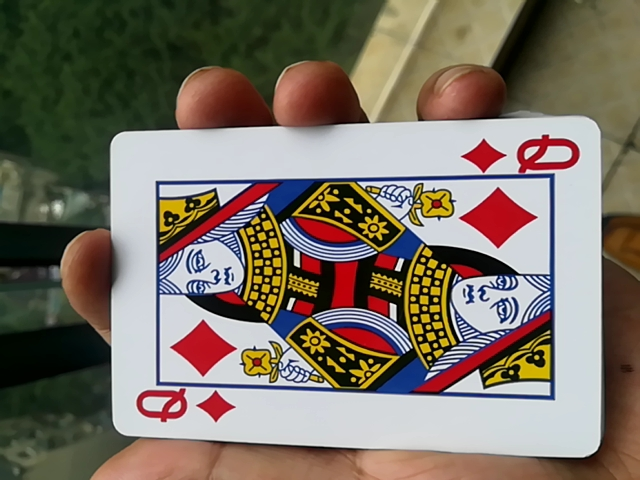fk q: (94, 116, 590, 456)
